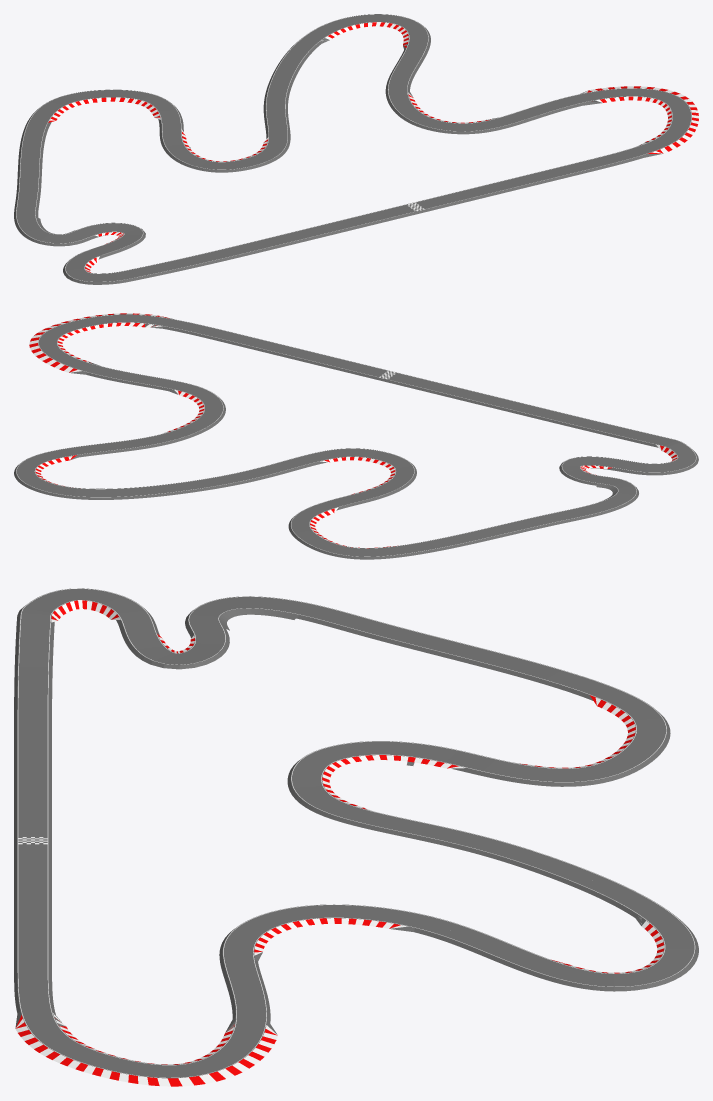
The model's file is track 2 revisi.fbx.
3 views of the same model, one above another, from view 1: azimuth 30°, elevation 25°; view 2: azimuth 150°, elevation 25°; view 3: azimuth 270°, elevation 25° (orthographic). The views are drawn at different scales.
Parts seen in each view (by area): view 1: Track ke 2; view 2: Track ke 2; view 3: Track ke 2.
Boxes of the visible parts, bbox=[...] form: Track ke 2: bbox=[14, 14, 698, 284]; Track ke 2: bbox=[14, 313, 698, 559]; Track ke 2: bbox=[14, 588, 698, 1086].
Bounding box in the file's own units: 371 × 2.82 × 216.
Materials: 1 (1 with a texture image).
